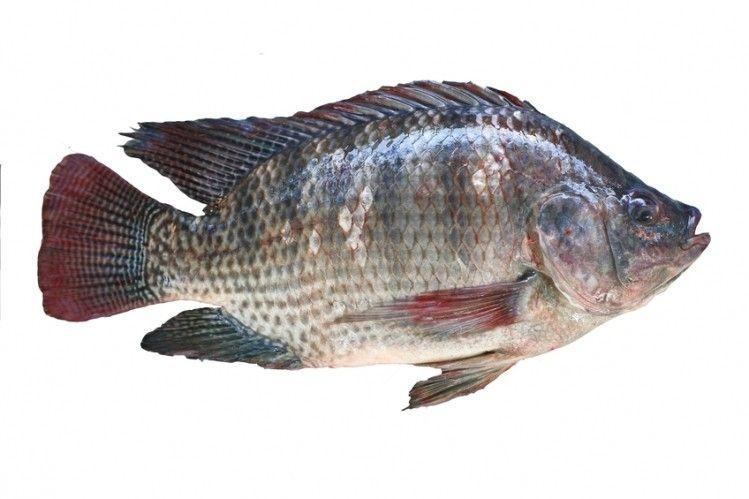Tilapia: (35, 80, 705, 409)
